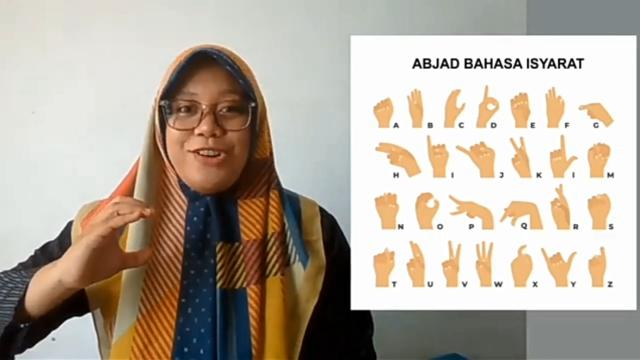C: (66, 194, 158, 288)
